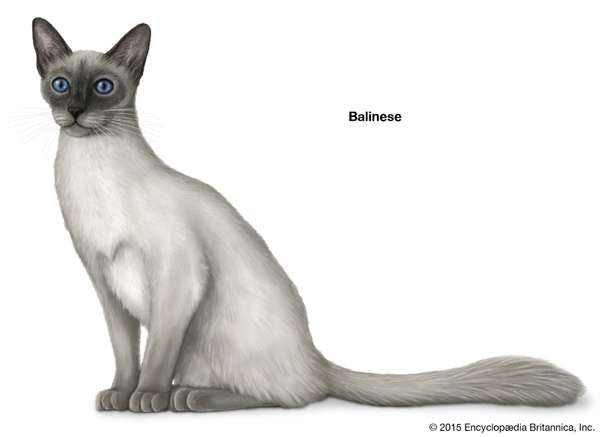cat: (27, 16, 593, 412)
